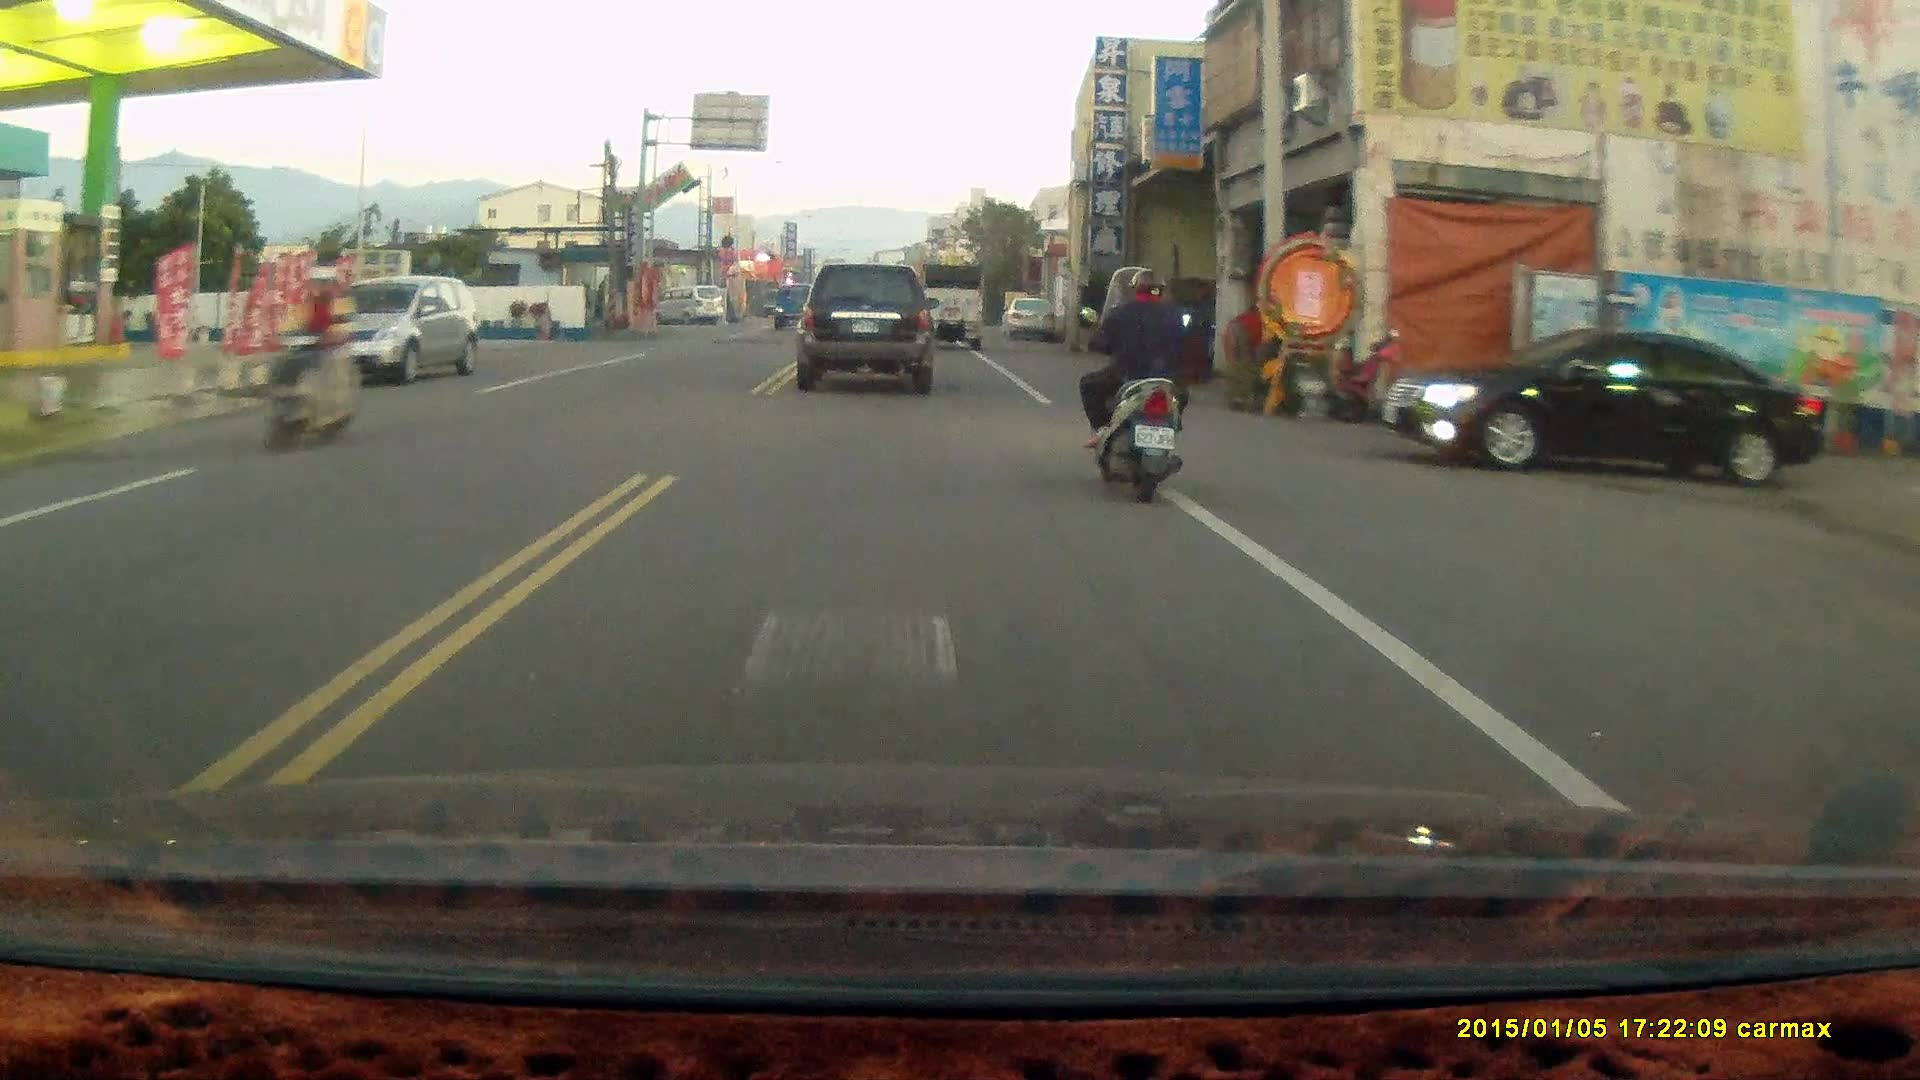rider: (1078, 264, 1188, 503), (256, 264, 370, 459)
vehicle: (1388, 331, 1837, 490), (308, 273, 481, 391), (794, 258, 941, 394), (911, 263, 985, 353), (1001, 297, 1057, 340)
